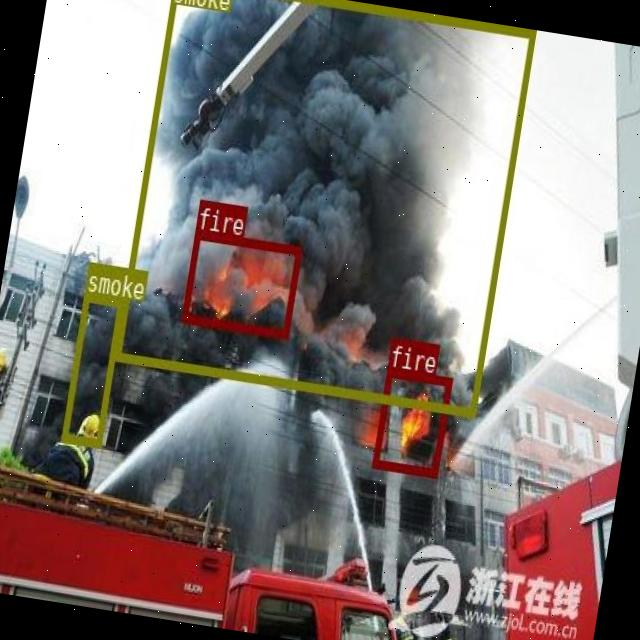fire: (180, 228, 302, 336), (372, 366, 452, 476)
smoke: (113, 0, 535, 414), (60, 292, 123, 447)
